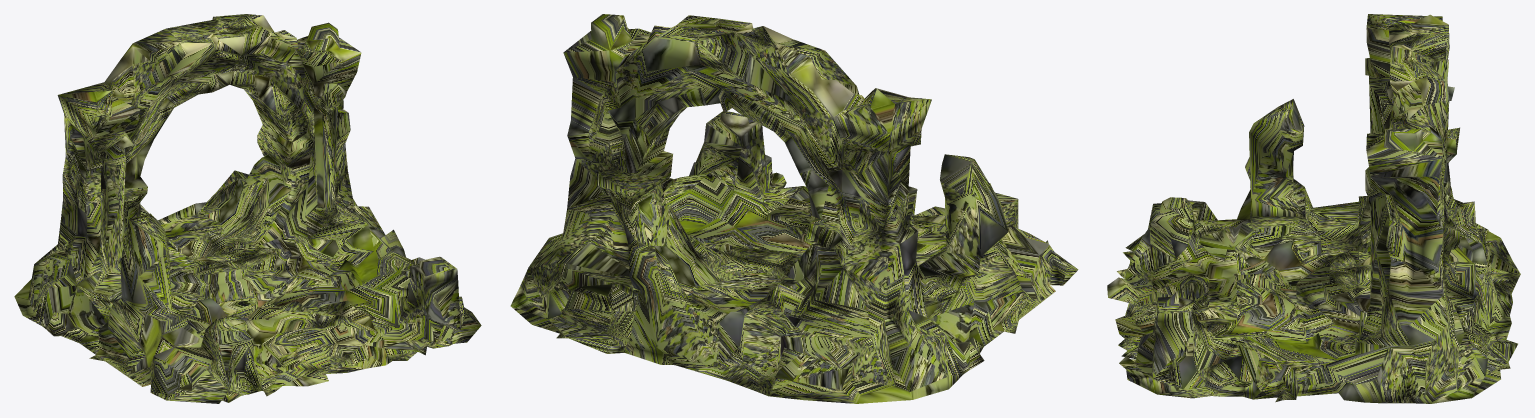
Rendered from Ancient_Gateway_Ruins.glb.
3 views of the same model, side by side, from view 1: azimuth 30°, elevation 25°; view 2: azimuth 150°, elevation 25°; view 3: azimuth 270°, elevation 25° (orthographic). The views are drawn at different scales.
Parts seen in each view (by area): view 1: Ancient_Gateway_Ruins; view 2: Ancient_Gateway_Ruins; view 3: Ancient_Gateway_Ruins.
Part boxes in pixels (left/top/right/bottom): Ancient_Gateway_Ruins: left=14, top=14, right=481, bottom=403; Ancient_Gateway_Ruins: left=510, top=14, right=1078, bottom=403; Ancient_Gateway_Ruins: left=1107, top=14, right=1520, bottom=403.
Bounding box in the file's own units: 1.9 × 1.27 × 1.79.
1 material, 1 textured.
